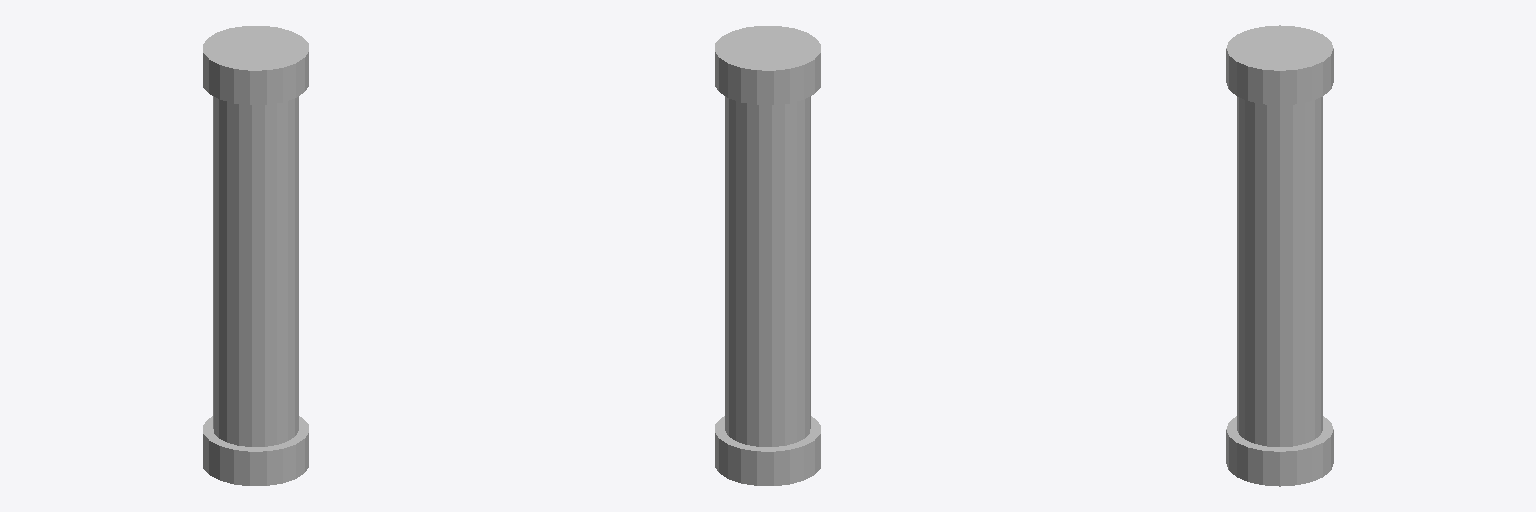
File: Props_Pillar_Geo.obj
The picture shows the model from 3 angles: view 1: azimuth 30°, elevation 25°; view 2: azimuth 150°, elevation 25°; view 3: azimuth 270°, elevation 25°; orthographic projection.
Parts seen in each view (by area): view 1: PropZoo:pCylinder6; view 2: PropZoo:pCylinder6; view 3: PropZoo:pCylinder6.
Part boxes in pixels (x1,y1,x2,y2): PropZoo:pCylinder6: (203, 26, 308, 485); PropZoo:pCylinder6: (715, 26, 820, 485); PropZoo:pCylinder6: (1226, 25, 1333, 486).
Size of the model in its own units: 0.5625 by 2.4 by 0.5625.